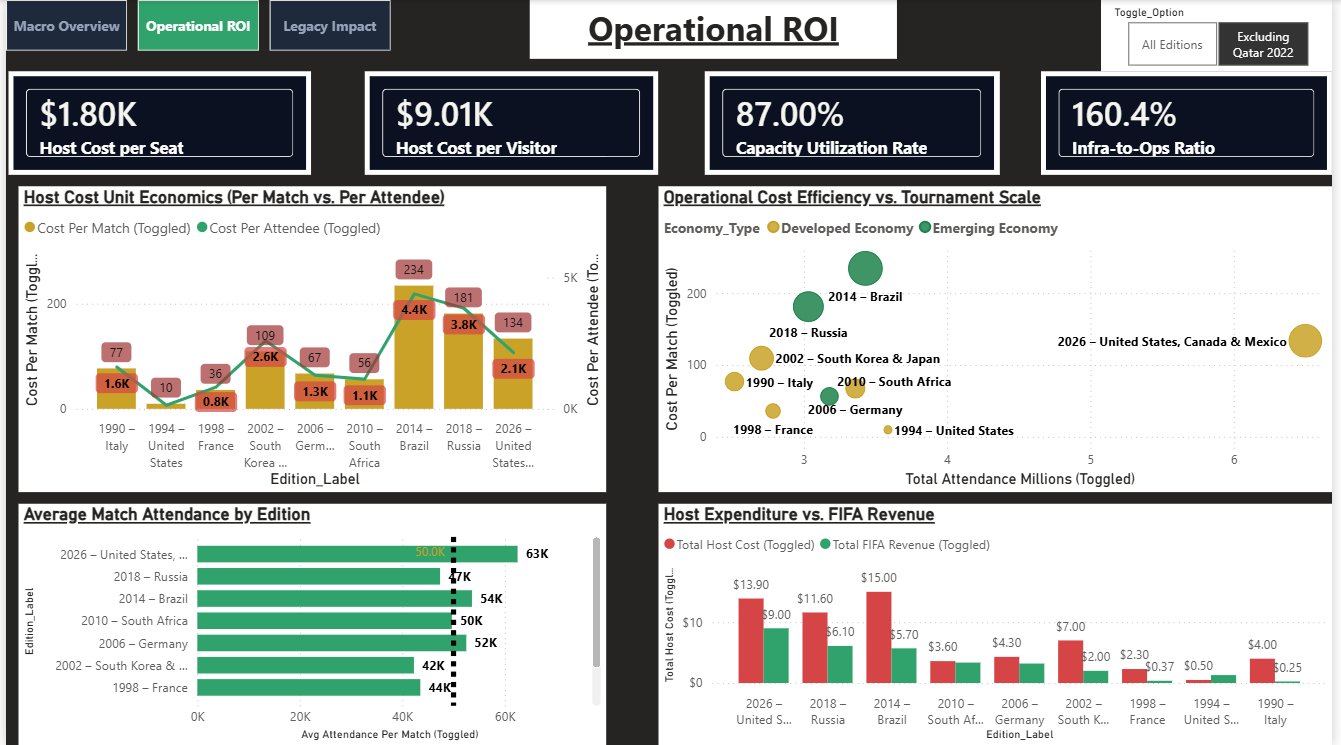

The dashboard page shown, as its layout file describes it:
{"tool":"powerbi","page":{"name":"Operational ROI","canvas":[1280,720],"ordinal":1},"visuals":[{"type":"slicer","fields":{"Values":["Dim_Outlier_Toggle.Toggle_Option"]},"box":[1056.3,0,223.7,68.6],"z":0},{"type":"cardVisual","fields":{"Data":["Measure.Host Cost per Seat"]},"box":[2.8,68.2,292.2,100.2],"z":1000},{"type":"cardVisual","fields":{"Data":["Measure.Host Cost per Visitor"]},"box":[346.2,68.8,283.5,100.1],"z":2000},{"type":"cardVisual","fields":{"Data":["Measure.Capacity Utilization Rate"]},"box":[674.4,68.8,284.7,100.1],"z":3000},{"type":"cardVisual","fields":{"Data":["Measure.Infra-to-Ops Ratio"]},"box":[998.9,68.8,281.1,100.1],"z":4000},{"type":"lineClusteredColumnComboChart","title":"Host Cost Unit Economics (Per Match vs. Per Attendee)","fields":{"Category":["Dim_Edition.Edition_Label"],"Y":["Measure.Cost Per Match (Toggled)"],"Y2":["Measure.Cost Per Attendee (Toggled)"]},"box":[12.1,179.8,567,295.6],"z":5000},{"type":"scatterChart","title":"Operational Cost Efficiency vs. Tournament Scale","fields":{"Category":["Dim_Edition.Edition_Label"],"X":["Measure.Total Attendance Millions (Toggled)"],"Y":["Measure.Cost Per Match (Toggled)"],"Size":["Measure.Total Host Cost (Toggled)"],"Series":["Dim_Host_Country.Economy_Type"]},"box":[629.8,179.8,650.3,295.6],"z":6000},{"type":"clusteredBarChart","title":"Average Match Attendance by Edition","fields":{"Category":["Dim_Edition.Edition_Label"],"Y":["Measure.Avg Attendance Per Match (Toggled)"]},"box":[12,486,567,234],"z":7000},{"type":"clusteredColumnChart","title":"Host Expenditure vs. FIFA Revenue","fields":{"Category":["Dim_Edition.Edition_Label"],"Y":["Measure.Total Host Cost (Toggled)","Measure.Total FIFA Revenue (Toggled)"]},"box":[630,486,650,234],"z":8000},{"type":"textbox","box":[505.5,0,354.7,56.7],"z":9000},{"type":"pageNavigator","box":[0,0,374,49.5],"z":10000}]}

Visuals, with their boxes in screenshot pixels (x1, y1, x2, y2), scaled from the page's 1280x720 canvas onto the 1341x745 screenshot:
slicer - Dim_Outlier_Toggle.Toggle_Option: x1=1107 y1=0 x2=1340 y2=71
cardVisual - Measure.Host Cost per Seat: x1=3 y1=71 x2=309 y2=174
cardVisual - Measure.Host Cost per Visitor: x1=363 y1=71 x2=660 y2=175
cardVisual - Measure.Capacity Utilization Rate: x1=707 y1=71 x2=1005 y2=175
cardVisual - Measure.Infra-to-Ops Ratio: x1=1047 y1=71 x2=1340 y2=175
"Host Cost Unit Economics (Per Match vs. Per Attendee)" lineClusteredColumnComboChart: x1=13 y1=186 x2=607 y2=492
"Operational Cost Efficiency vs. Tournament Scale" scatterChart: x1=660 y1=186 x2=1340 y2=492
"Average Match Attendance by Edition" clusteredBarChart: x1=13 y1=503 x2=607 y2=744
"Host Expenditure vs. FIFA Revenue" clusteredColumnChart: x1=660 y1=503 x2=1340 y2=744
textbox: x1=530 y1=0 x2=901 y2=59
pageNavigator: x1=0 y1=0 x2=392 y2=51
